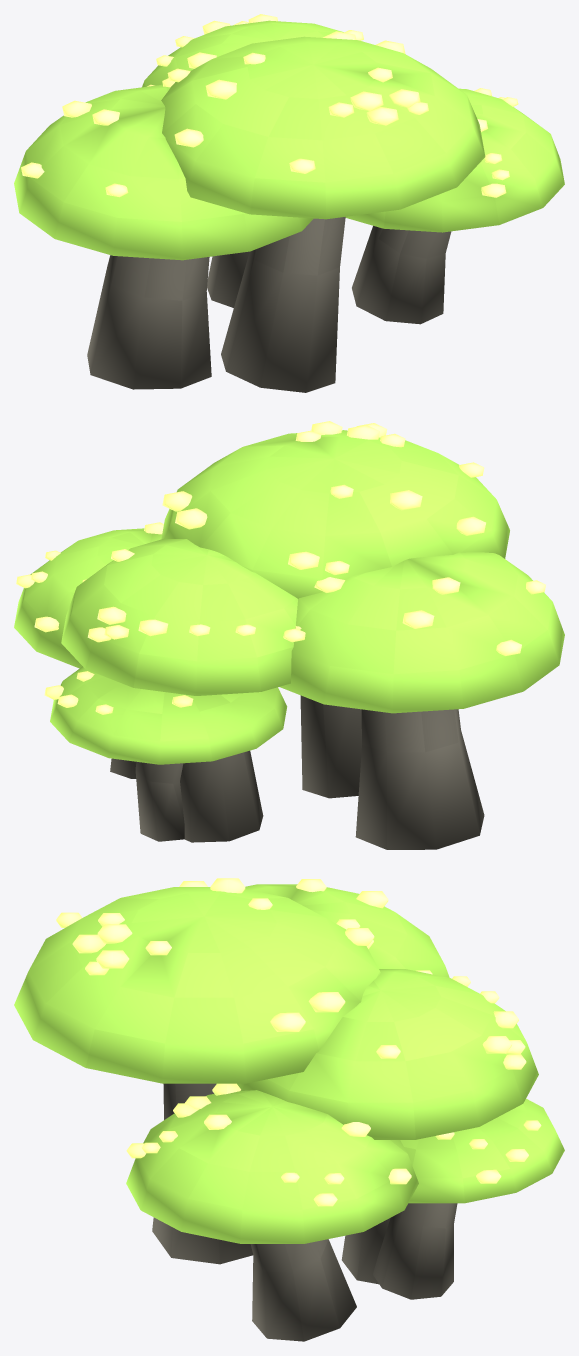
The model's file is obj_oficio_nido_2.glb.
3 views of the same model, one above another, from view 1: azimuth 30°, elevation 25°; view 2: azimuth 150°, elevation 25°; view 3: azimuth 270°, elevation 25° (orthographic). The views are drawn at different scales.
Visible parts, largest first — view 1: propforge-libre-oficio_nido; view 2: propforge-libre-oficio_nido; view 3: propforge-libre-oficio_nido.
Boxes of the visible parts, x1,y1,x2,y2 form: propforge-libre-oficio_nido: (14,14,564,392); propforge-libre-oficio_nido: (14,421,564,849); propforge-libre-oficio_nido: (14,878,564,1341).
Size of the model in its own units: 1.12 by 0.6549 by 0.967.
